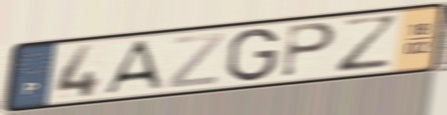4: (51, 42, 105, 100)
A: (100, 38, 167, 97)
G: (225, 26, 282, 84)
P: (278, 21, 339, 80)
Z: (334, 13, 403, 76), (165, 30, 227, 90)
